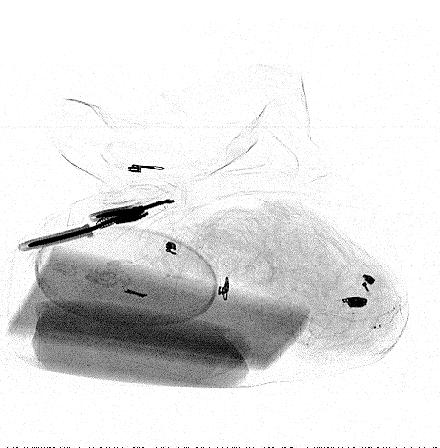Pliers: (20, 196, 177, 249)
